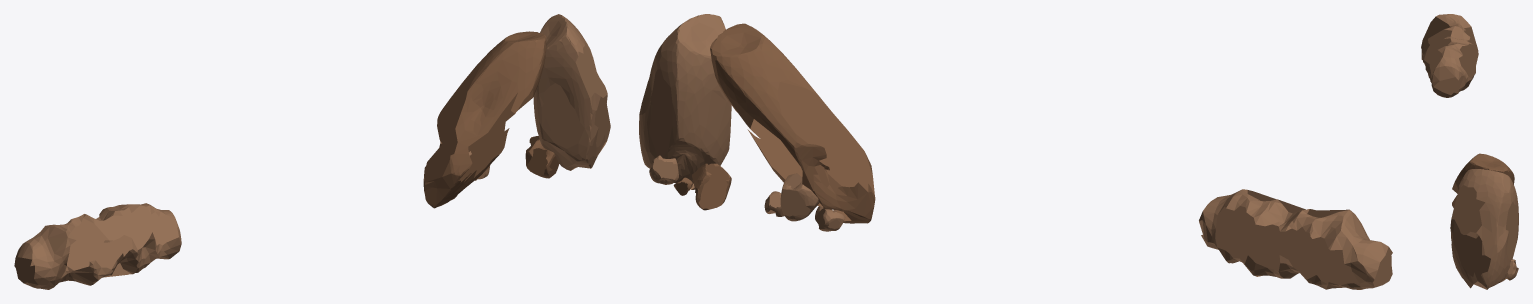
File: desert boulders bedre .fbx
3 views of the same model, side by side, from view 1: azimuth 30°, elevation 25°; view 2: azimuth 150°, elevation 25°; view 3: azimuth 270°, elevation 25° (orthographic). The views are drawn at different scales.
Parts seen in each view (by area): view 1: Cube.004, Cube.002, Cube.003, Cube; view 2: Cube.004, Cube.002, Cube.003, Cube, Cube.006, Cube.001, Cube.005; view 3: Cube.003, Cube.002, Cube.004, Cube.001.
Part boxes in pixels (x1,y1,x2,y2): Cube.004: [423, 31, 546, 208]; Cube.002: [14, 203, 181, 289]; Cube.003: [533, 14, 610, 170]; Cube: [525, 136, 558, 178]; Cube.004: [710, 23, 875, 223]; Cube.002: [1199, 189, 1392, 289]; Cube.003: [639, 14, 731, 189]; Cube: [692, 163, 731, 210]; Cube.006: [780, 173, 819, 221]; Cube.001: [649, 155, 678, 184]; Cube.005: [815, 206, 845, 231]; Cube.003: [1450, 169, 1518, 289]; Cube.002: [1421, 14, 1478, 97]; Cube.004: [1452, 153, 1514, 207]; Cube.001: [1506, 259, 1518, 280].
Bounding box in the file's own units: 5715 × 1390 × 1022.
Materials: 6 (6 with a texture image).
